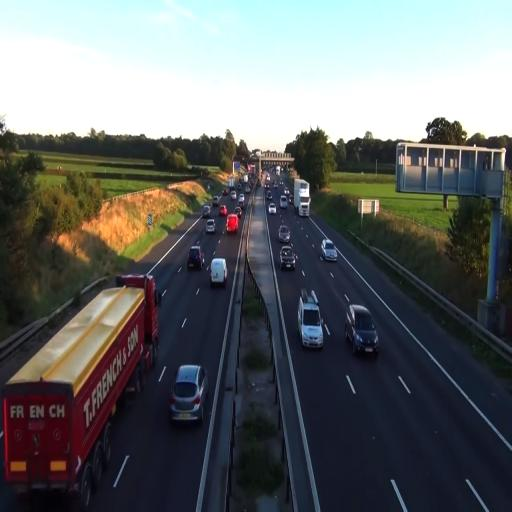vehicle: (1, 279, 153, 509), (116, 272, 160, 362), (168, 364, 206, 426), (344, 302, 380, 358), (298, 293, 324, 351), (295, 180, 311, 217), (294, 180, 310, 217), (210, 258, 227, 287), (187, 244, 204, 272), (279, 246, 297, 270), (320, 240, 338, 262), (205, 217, 216, 234), (267, 198, 278, 214)
